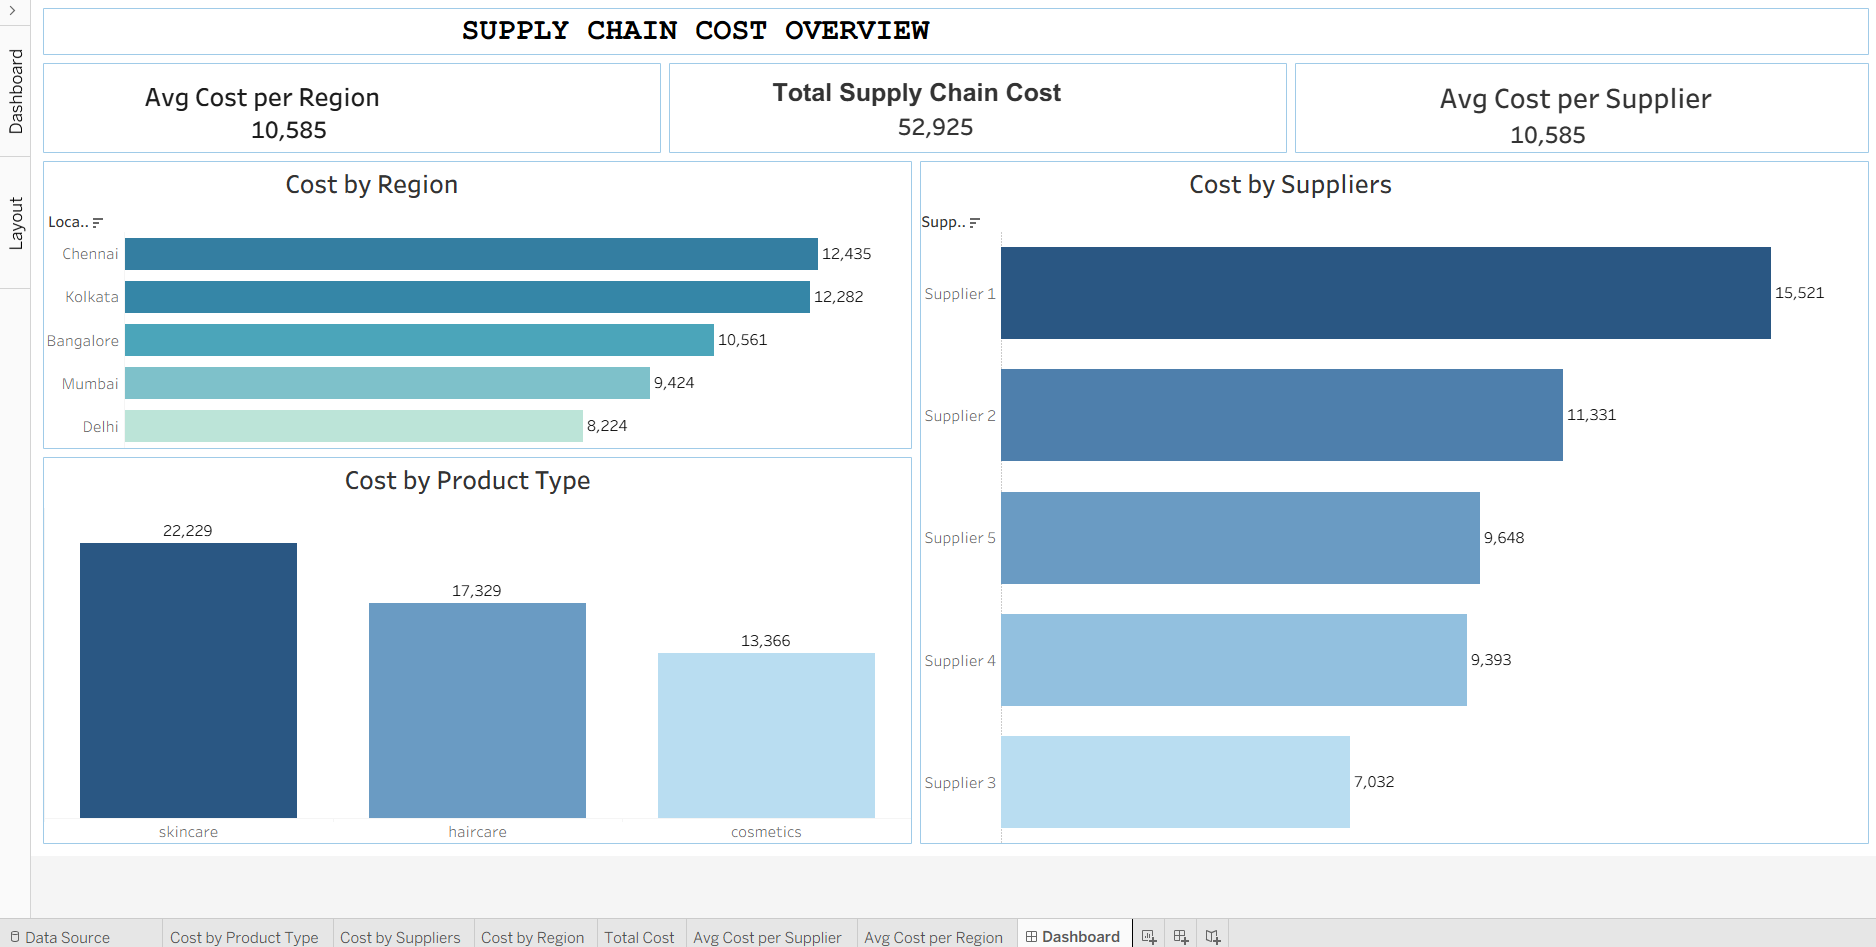

This screenshot's page, from the dashboard's own definition file:
{"tool":"tableau","page":{"name":"Dashboard ","canvas":[1000,1000],"units":"permille","ordinal":0},"visuals":[{"type":"title","box":[4.7,9.3,990.6,64]},{"type":"worksheet","title":"Avg Cost per Region","mark":"Automatic","box":[4.7,73.2,338,114.1]},{"type":"worksheet","title":"Total Cost","mark":"Automatic","box":[342.7,73.2,338.1,114.1]},{"type":"worksheet","title":"Avg Cost per Supplier","mark":"Automatic","box":[680.8,73.2,314.6,114.1]},{"type":"worksheet","title":"Cost by Region","mark":"Automatic","rows":["Location"],"cols":["Costs"],"box":[4.7,187.4,473.6,344.6]},{"type":"worksheet","title":"Cost by Suppliers","mark":"Automatic","rows":["Supplier name"],"cols":["Costs"],"box":[478.3,187.4,517,803.3]},{"type":"worksheet","title":"Cost by Product Type","mark":"Automatic","rows":["Costs"],"cols":["Product type"],"box":[4.7,532,473.6,458.7]}]}

Visuals, with their boxes on the dashboard's canvas, which has no fixed pixel size, in thousandths of its width and height (x1, y1, x2, y2). These are canvas units, not pixel positions in the 1876x947 screenshot, which may show the page scaled, cropped or inside an application window:
title: left=5, top=9, right=995, bottom=73
"Avg Cost per Region" worksheet: left=5, top=73, right=343, bottom=187
"Total Cost" worksheet: left=343, top=73, right=681, bottom=187
"Avg Cost per Supplier" worksheet: left=681, top=73, right=995, bottom=187
"Cost by Region" worksheet: left=5, top=187, right=478, bottom=532
"Cost by Suppliers" worksheet: left=478, top=187, right=995, bottom=991
"Cost by Product Type" worksheet: left=5, top=532, right=478, bottom=991
